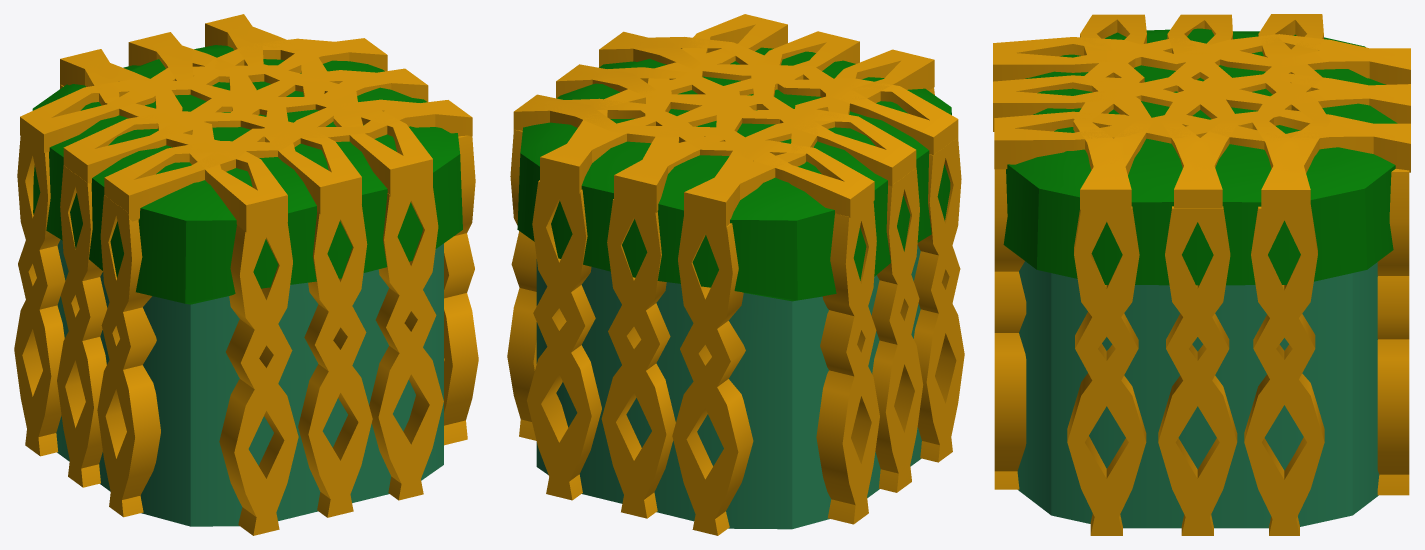
Rendered from LevelWallPieceClimbable.fbx.
3 views of the same model, side by side, from view 1: azimuth 30°, elevation 25°; view 2: azimuth 150°, elevation 25°; view 3: azimuth 270°, elevation 25° (orthographic). The views are drawn at different scales.
Parts seen in each view (by area): view 1: LevelWallPieceClimbable; view 2: LevelWallPieceClimbable; view 3: LevelWallPieceClimbable.
Part boxes in pixels (x1,y1,x2,y2): LevelWallPieceClimbable: [14, 14, 478, 535]; LevelWallPieceClimbable: [507, 14, 964, 535]; LevelWallPieceClimbable: [993, 14, 1410, 535].
Size of the model in its own units: 1.12 by 1.08 by 1.13.
